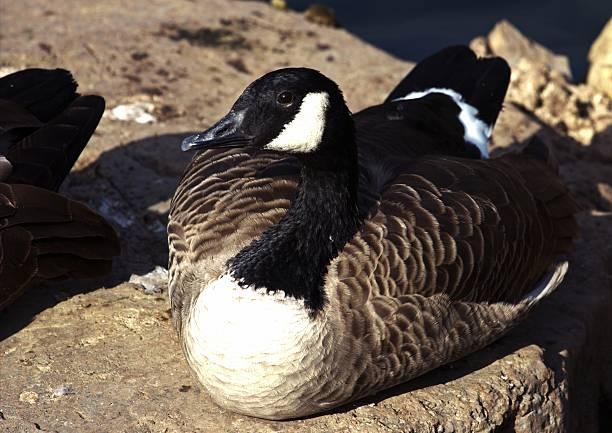Canadian-Goose: (170, 45, 578, 420), (0, 66, 115, 300)
